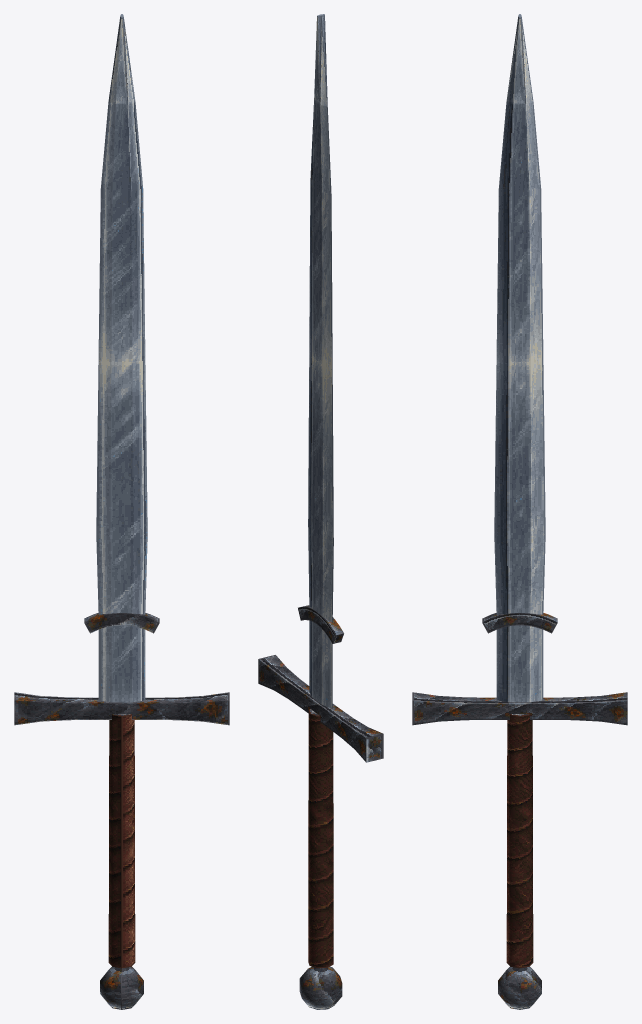
The model's file is greatsword.glb.
The picture shows the model from 3 angles, left to right: view 1: azimuth 90°, elevation 25°; view 2: azimuth 210°, elevation 25°; view 3: azimuth 270°, elevation 25°; orthographic projection.
Parts seen in each view (by area): view 1: greatsword; view 2: greatsword; view 3: greatsword.
Boxes of the visible parts, <box> form: greatsword: <box>14,14,229,1009</box>; greatsword: <box>258,14,383,1009</box>; greatsword: <box>412,14,627,1009</box>.
Size of the model in its own units: 0.0533 by 1.32 by 0.26.
Materials: 1 (1 with a texture image).
